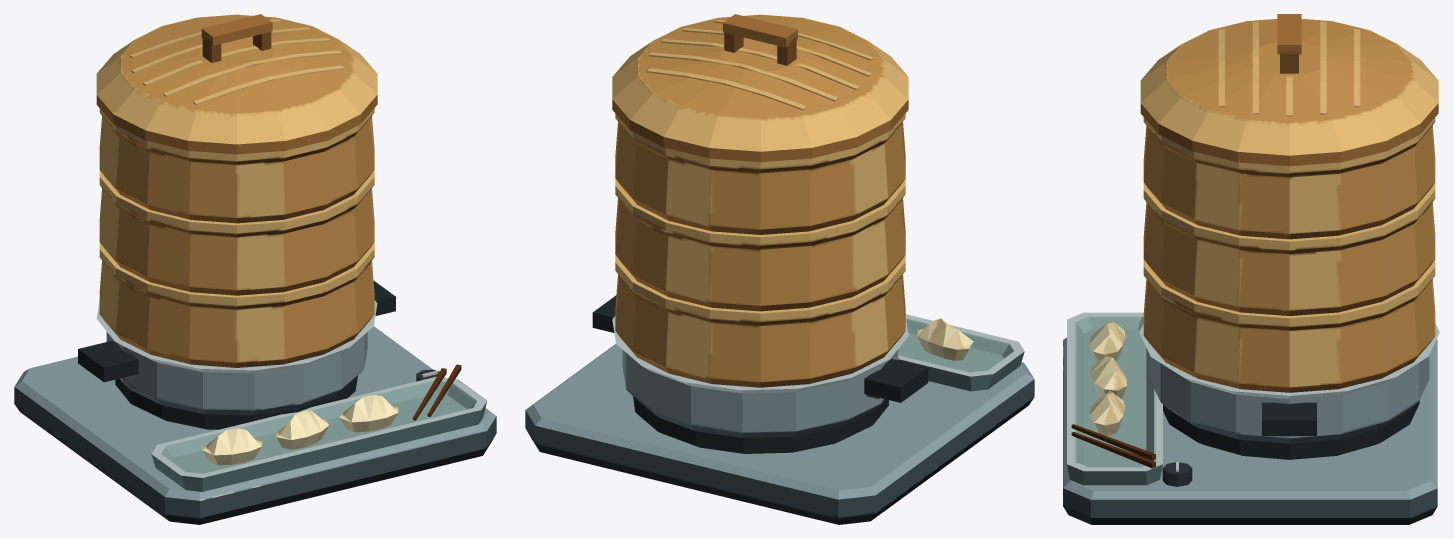
Rendered from DumplingSteamer.fbx.
3 renders of one model, left to right at view 1: azimuth 30°, elevation 25°; view 2: azimuth 150°, elevation 25°; view 3: azimuth 270°, elevation 25°, orthographic. The views are drawn at different scales.
Parts seen in each view (by area): view 1: DumplingSteamer_Body; view 2: DumplingSteamer_Body; view 3: DumplingSteamer_Body.
Part boxes in pixels (<box>): DumplingSteamer_Body: <box>14,14,496,524</box>; DumplingSteamer_Body: <box>525,14,1034,524</box>; DumplingSteamer_Body: <box>1063,14,1439,524</box>.
Size of what is drawn, in the model's own units: 0.384 by 0.43 by 0.356.
Materials: 1 (1 with a texture image).
